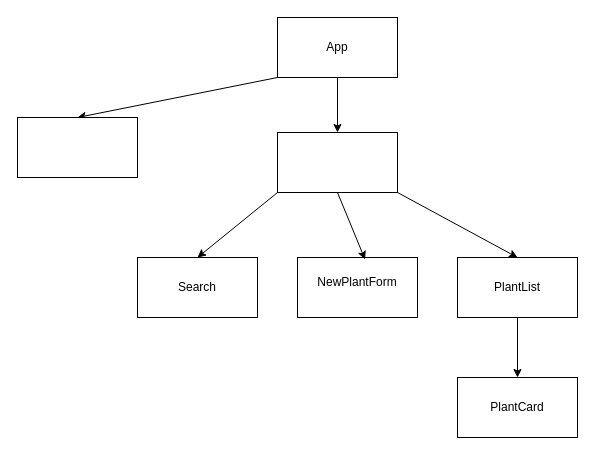
The diagram is 595 pixels wide and 455 high, and some of its shapes have lost their labels. The shapes that lost their labels are listed below. From the top down, each one's centre as x and y in pixels, then its label:
the point at 77,147: Header
the point at 337,162: Plant page
